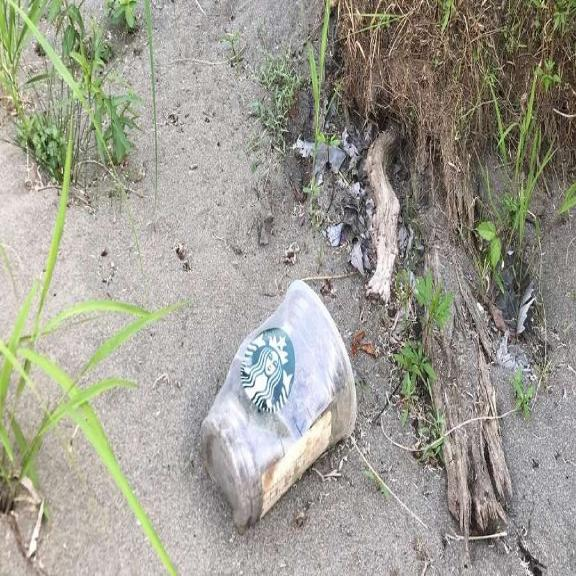Plastik: (201, 281, 356, 532)
